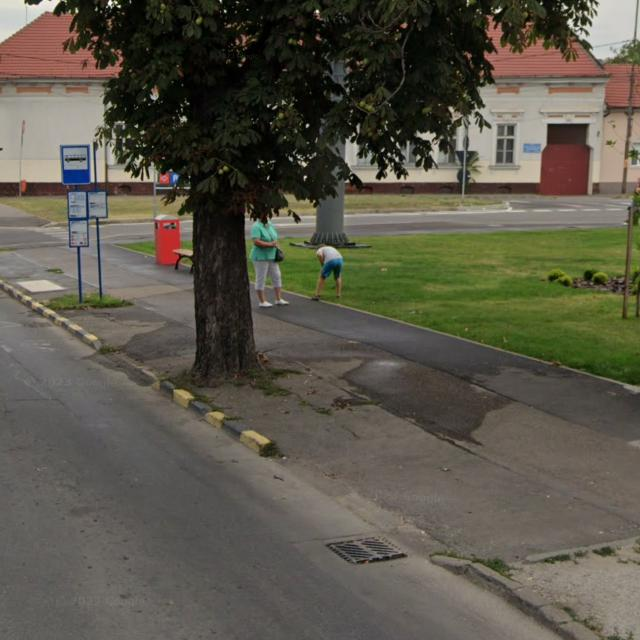info_bus_station: (61, 144, 92, 188)
